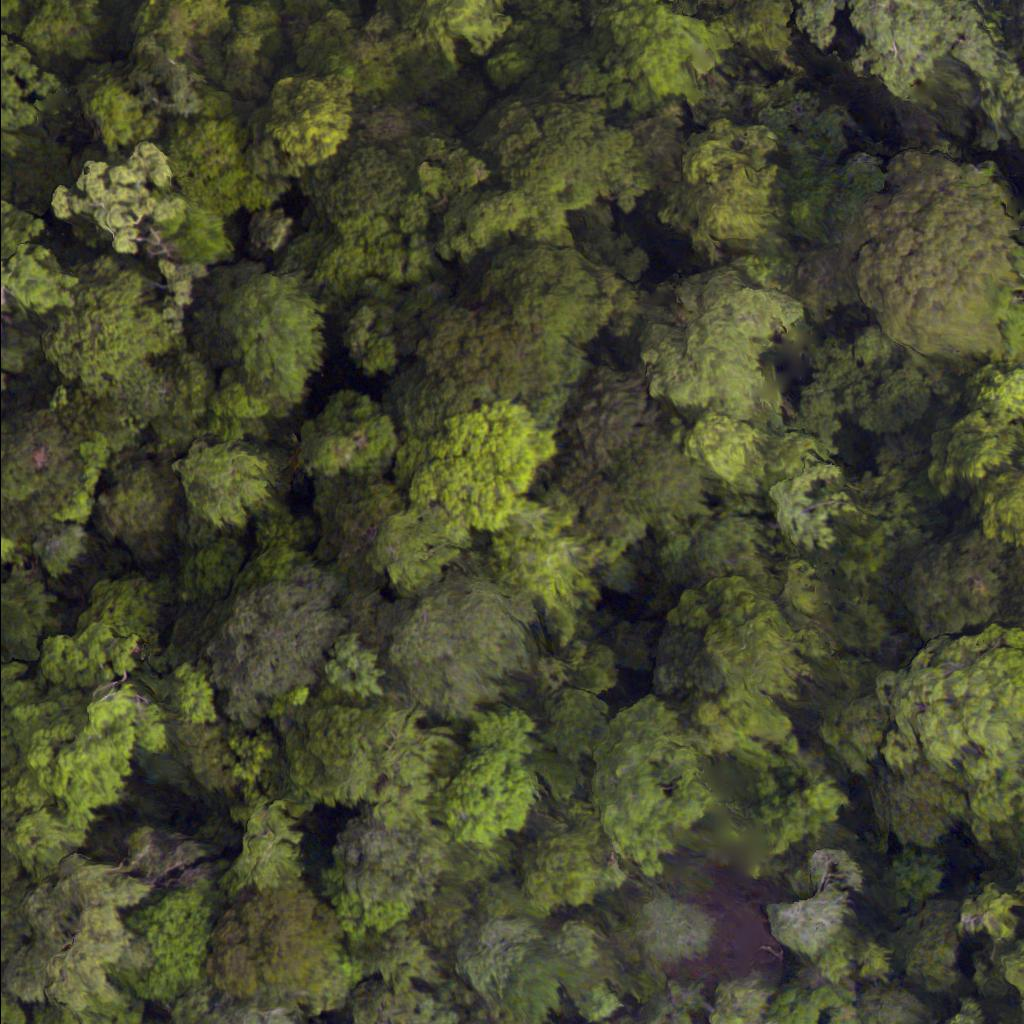crown: (0, 617, 212, 824), (46, 137, 209, 315), (34, 261, 170, 384), (204, 268, 325, 401), (0, 199, 85, 388), (0, 400, 96, 553), (177, 438, 295, 556), (0, 29, 62, 158)
